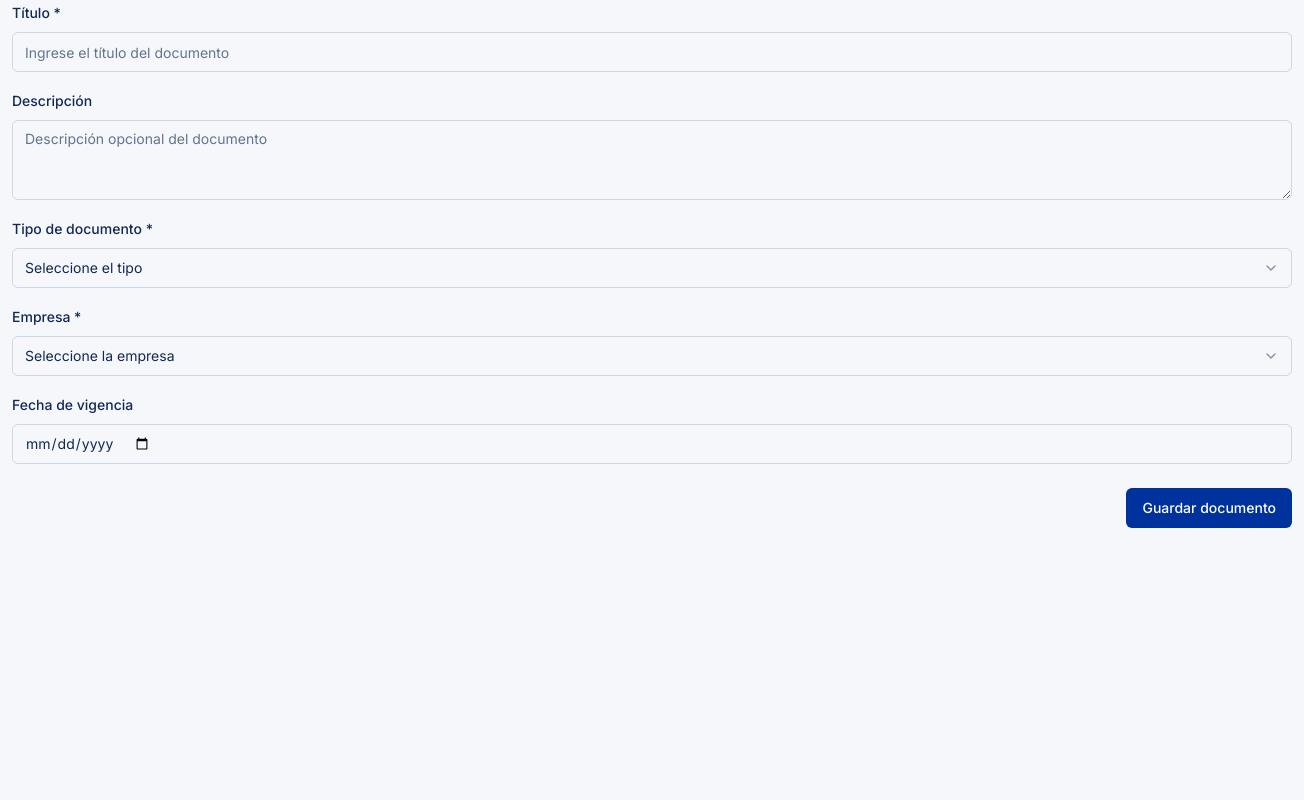
Scenario: DocumentForm › should show validation error for empty title
The image size is (1304, 800).
Click the button "Guardar documento": {"x": 1209, "y": 508} [1126,488,1292,528]
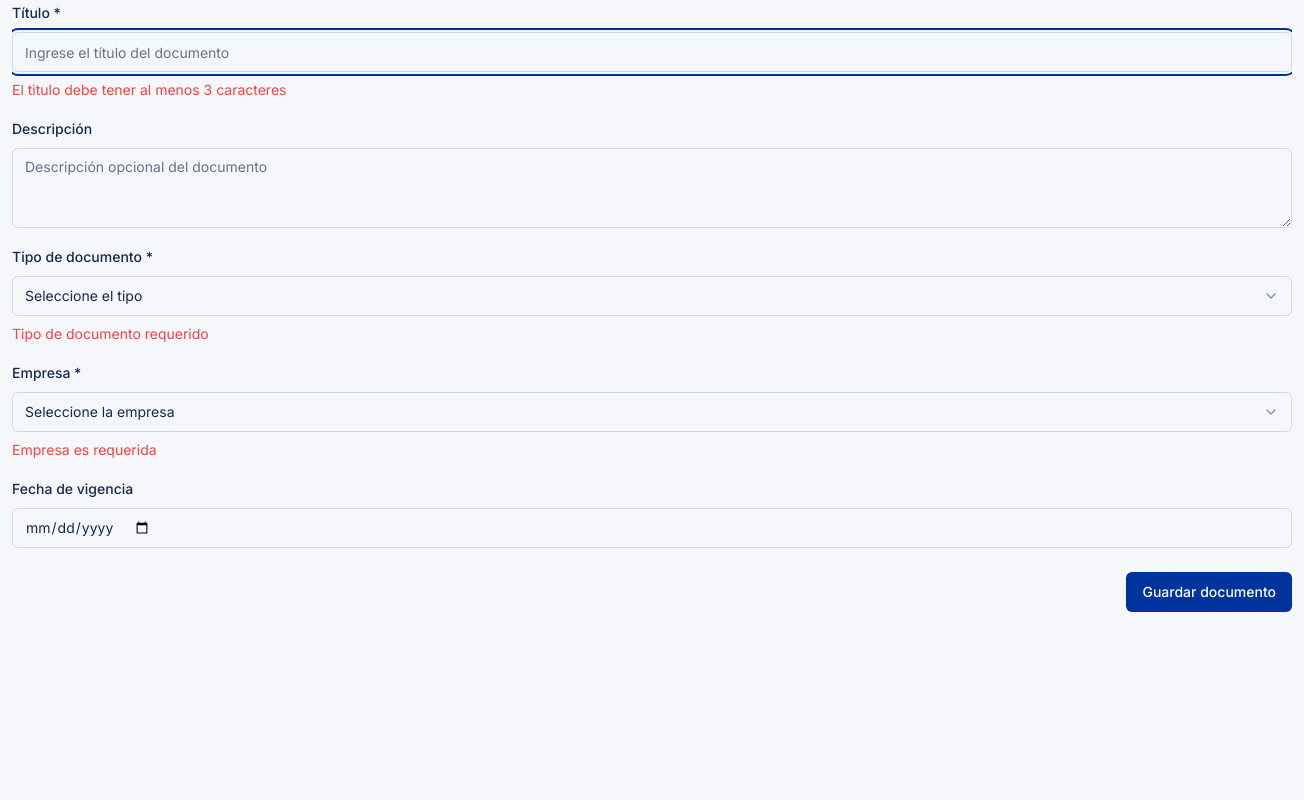
Expected: the text "El titulo debe tener al menos 3 caracteres" is shown, [12,81,286,98]
